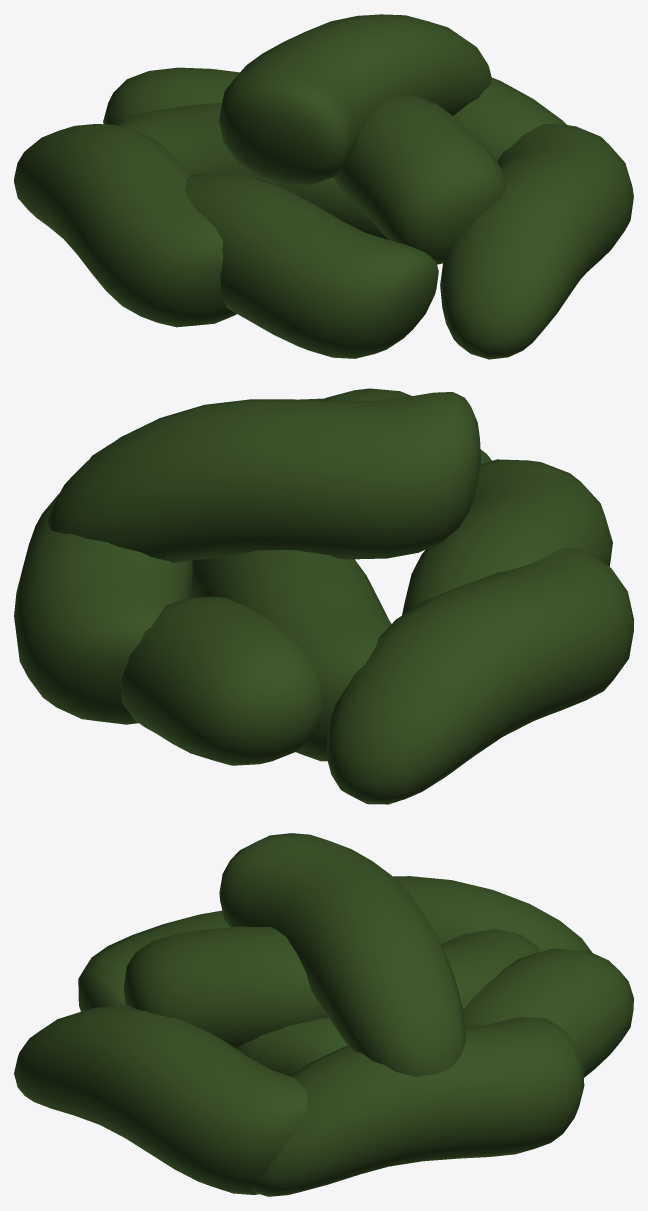
The model's file is cowpoop.fbx.
3 views of the same model, one above another, from view 1: azimuth 30°, elevation 25°; view 2: azimuth 150°, elevation 25°; view 3: azimuth 270°, elevation 25° (orthographic). The views are drawn at different scales.
Visible parts, largest first — view 1: Cube.009; view 2: Cube.009; view 3: Cube.009.
Part boxes in pixels (bbox=[...]): Cube.009: bbox=[14, 14, 633, 359]; Cube.009: bbox=[14, 388, 633, 804]; Cube.009: bbox=[14, 833, 633, 1196].
Bounding box in the file's own units: 799 × 352 × 880.
